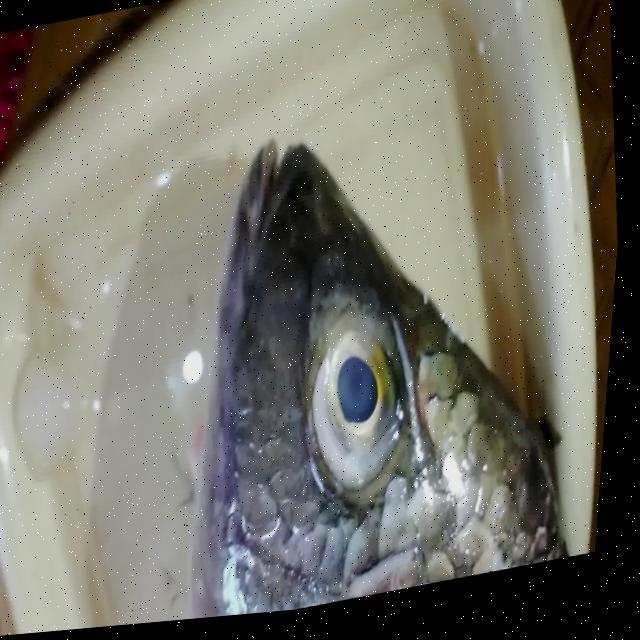Fresh: (291, 281, 440, 522)
